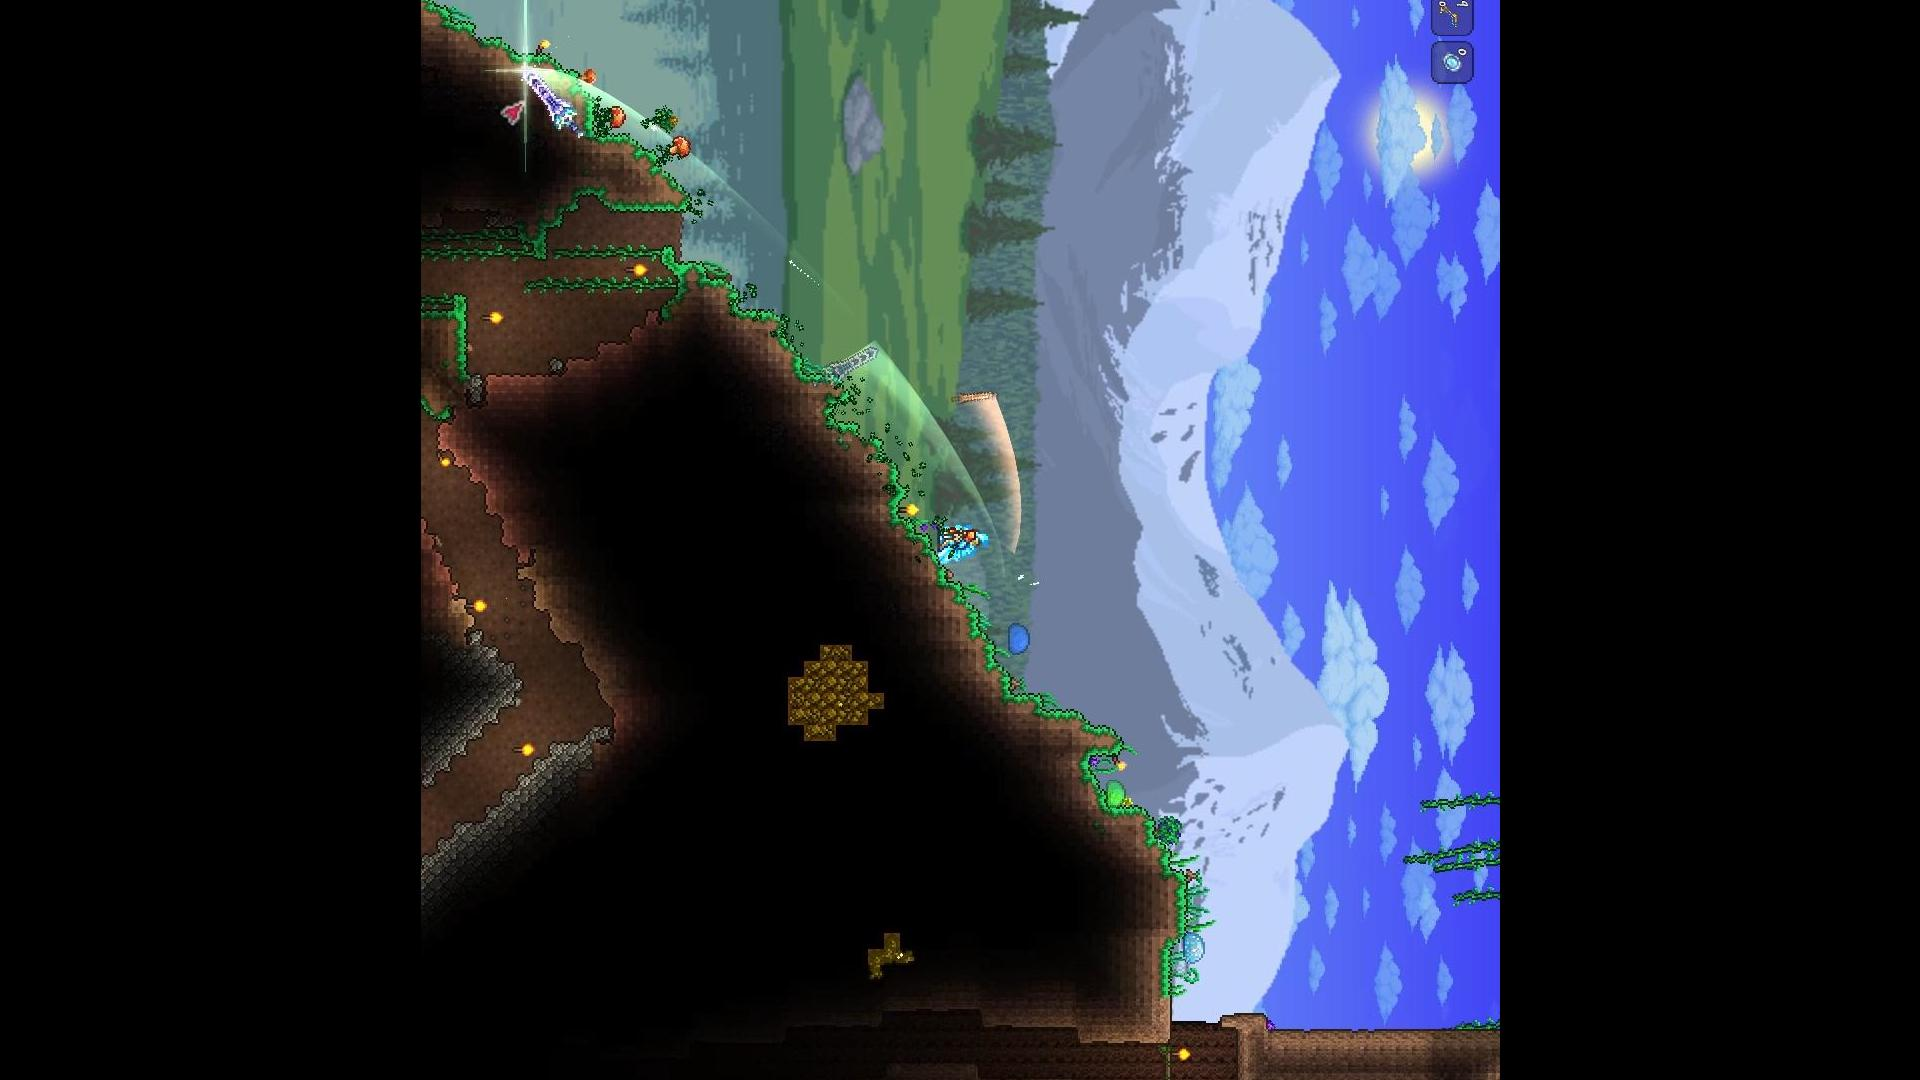slime: (1180, 928, 1209, 968), (1004, 624, 1031, 659), (1101, 778, 1127, 812)
